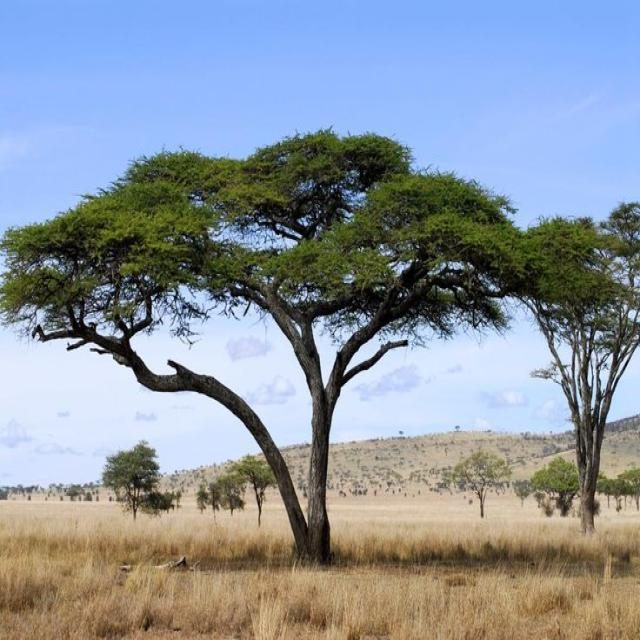Acacia: (30, 164, 420, 544), (517, 201, 632, 524)
